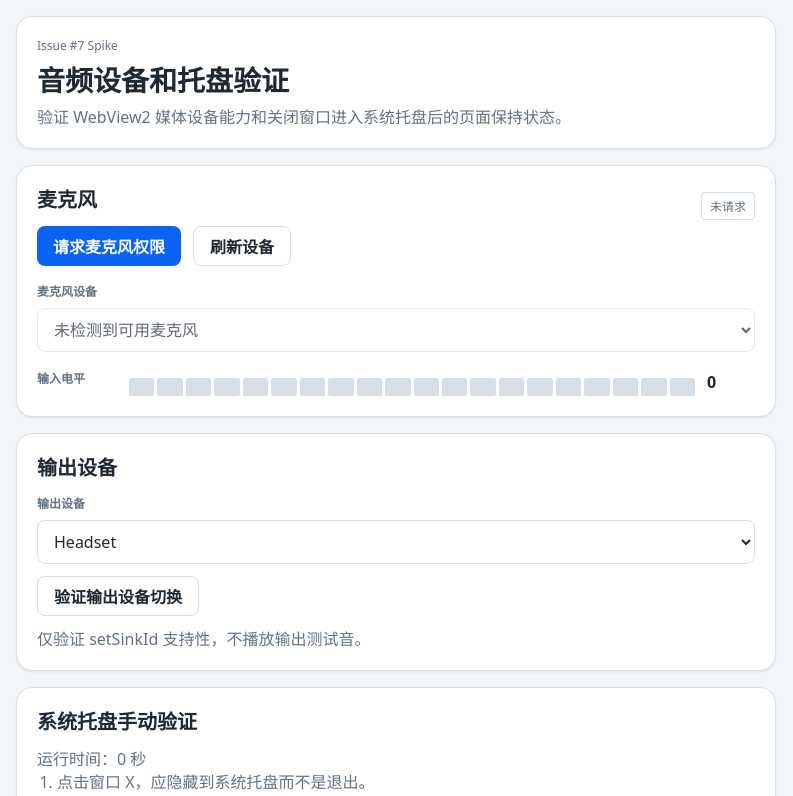
DeviceTraySpike › applies the selected output device from the page
The width and height of the screenshot is (793, 796).
Step 1. Click the button "验证输出设备切换" → coordinates (118, 596), box [37, 576, 199, 616]
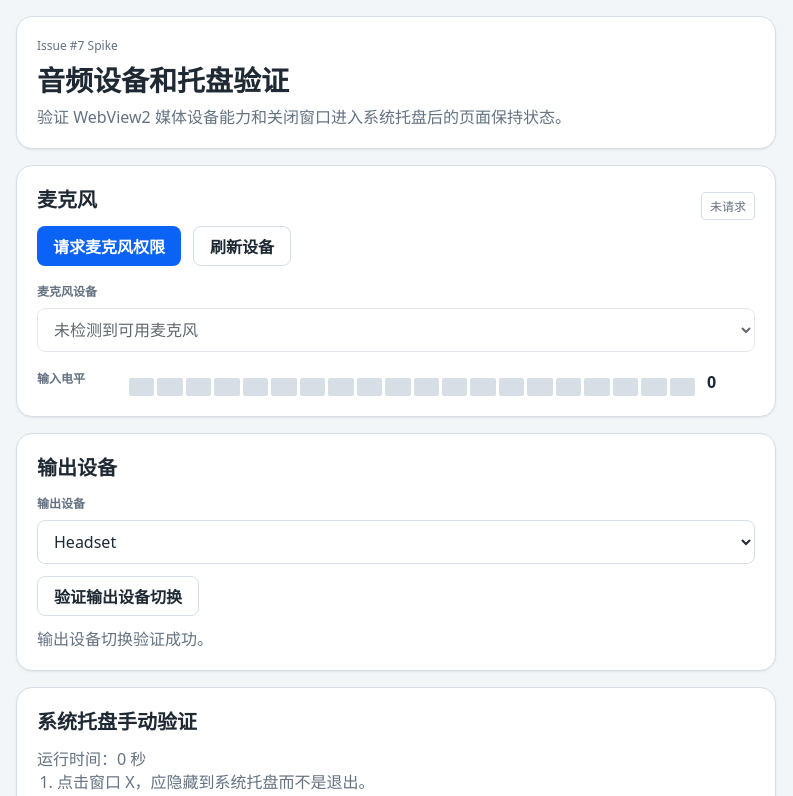
expect the text "输出设备切换验证成功。" is shown: met, box [37, 628, 213, 650]
